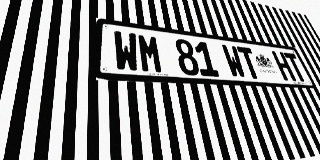1: (192, 41, 219, 77)
8: (174, 38, 201, 76)
H: (271, 51, 297, 81)
M: (137, 33, 164, 74)
T: (236, 46, 263, 79), (283, 52, 308, 82)
W: (113, 30, 140, 72), (221, 44, 247, 78)
